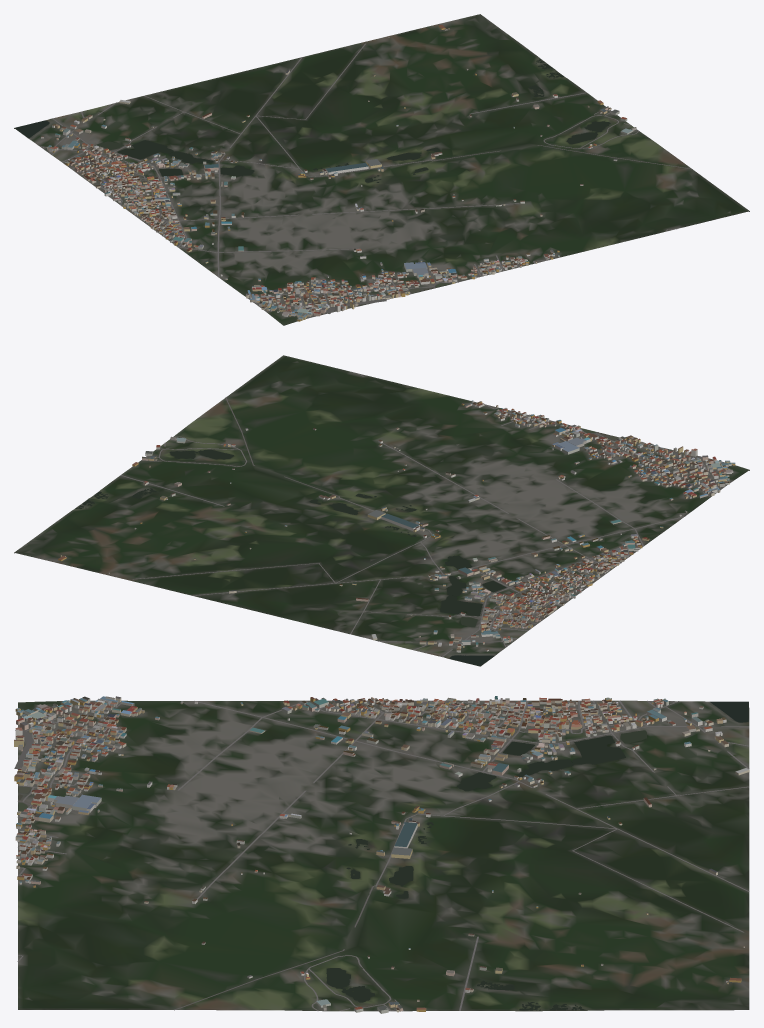
3 views of the same model, one above another, from view 1: azimuth 30°, elevation 25°; view 2: azimuth 150°, elevation 25°; view 3: azimuth 270°, elevation 25° (orthographic). The views are drawn at different scales.
Parts seen in each view (by area): view 1: ground, buildings, roads, water; view 2: ground, buildings, roads, water; view 3: ground, buildings, roads, water.
Boxes of the visible parts, x1,y1,x2,y2 form: ground: (14, 14, 749, 325); buildings: (41, 25, 636, 321); roads: (40, 43, 692, 313); water: (15, 58, 610, 293); ground: (14, 355, 749, 666); buildings: (58, 400, 735, 652); roads: (120, 373, 719, 656); water: (75, 428, 619, 665); ground: (18, 700, 749, 1011); buildings: (14, 696, 749, 1013); roads: (14, 700, 749, 1011); water: (18, 701, 748, 1010).
Bounding box in the file's own units: 1417 × 24.16 × 1411.
